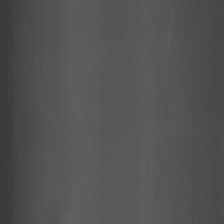silk_spot: (161, 7, 182, 53)
